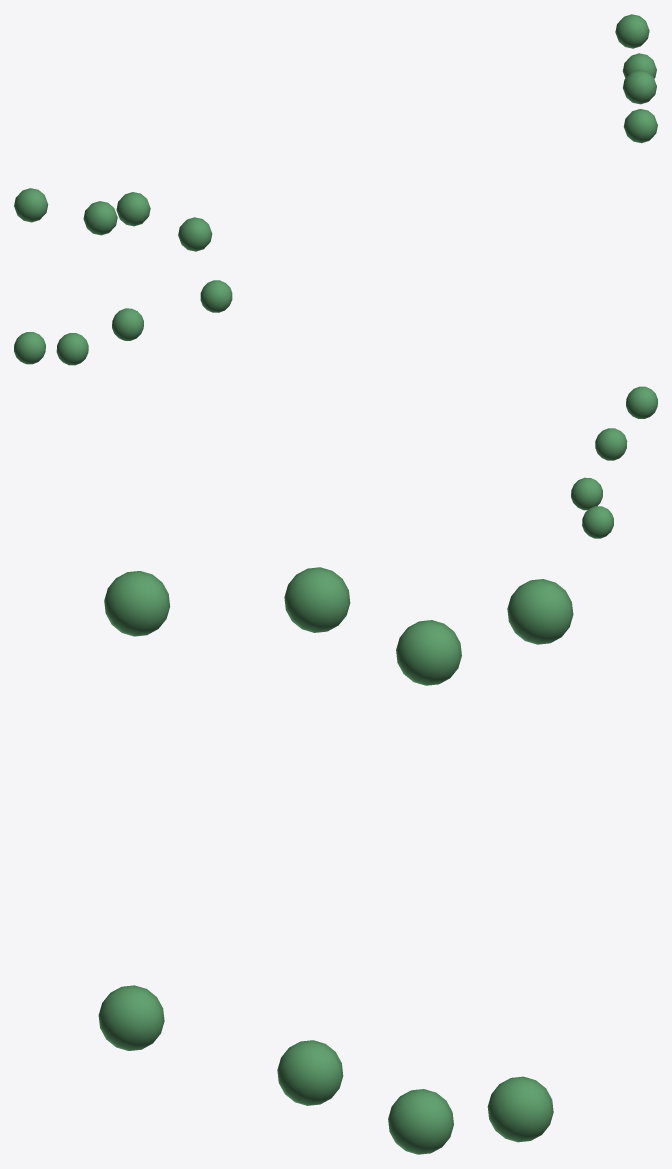
3 renders of one model, top to bottom at view 1: azimuth 30°, elevation 25°; view 2: azimuth 150°, elevation 25°; view 3: azimuth 270°, elevation 25°, orthographic. The views are drawn at different scales.
Parts seen in each view (by area): view 1: 髂总外侧淋巴结; view 2: 髂总外侧淋巴结; view 3: 髂总外侧淋巴结.
Boxes of the visible parts, box(x1,y1,x2,y2) form: 髂总外侧淋巴结: box(14, 14, 657, 251); 髂总外侧淋巴结: box(14, 280, 657, 538); 髂总外侧淋巴结: box(98, 567, 573, 1154).
Size of the model in its own units: 0.0803 by 0.00823 by 0.0275.
